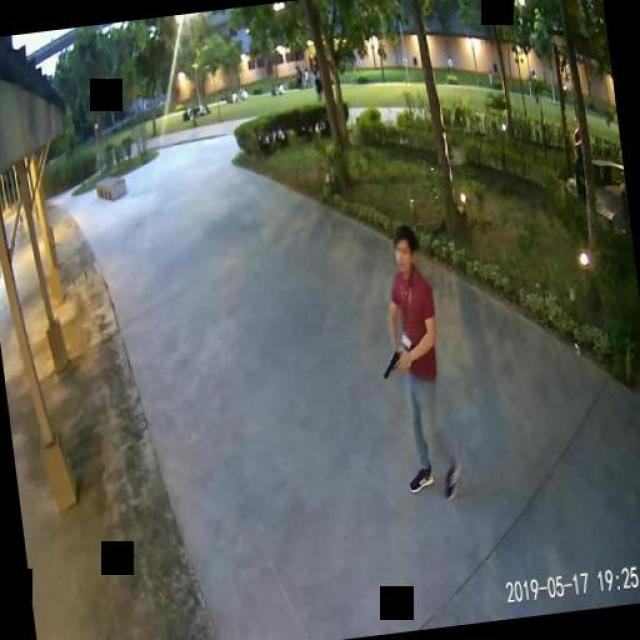gun: (378, 346, 404, 380)
